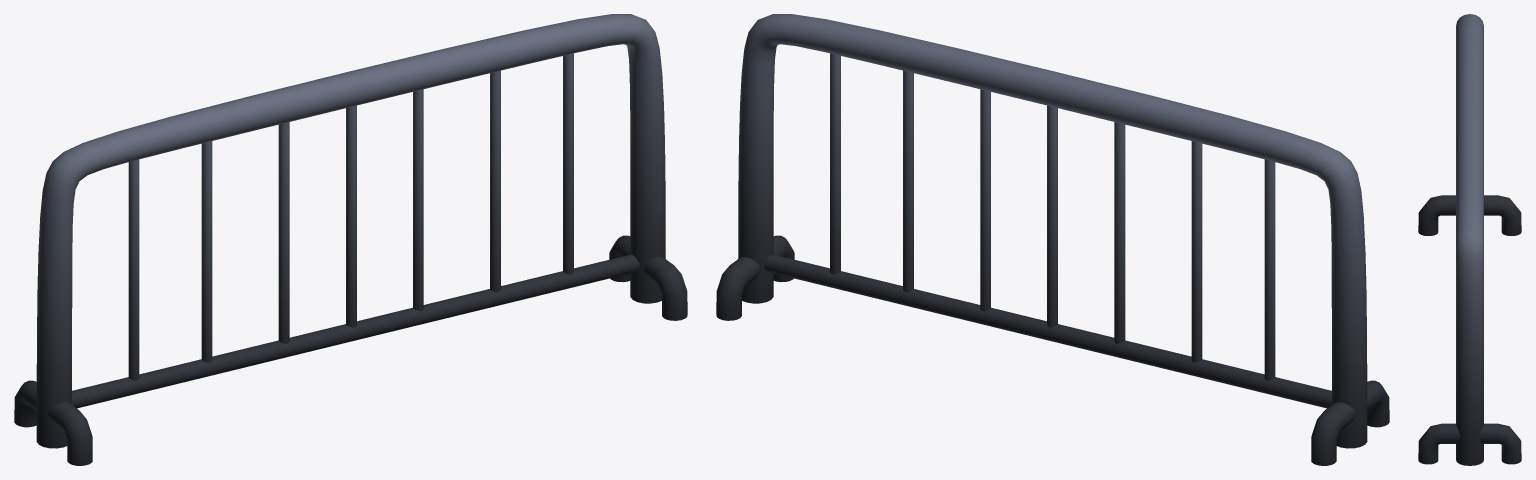
File: IronFence.fbx
3 renders of one model, left to right at view 1: azimuth 30°, elevation 25°; view 2: azimuth 150°, elevation 25°; view 3: azimuth 270°, elevation 25°, orthographic. The views are drawn at different scales.
Parts seen in each view (by area): view 1: Fence_Model; view 2: Fence_Model; view 3: Fence_Model.
Part boxes in pixels (x1,y1,x2,y2): Fence_Model: [14, 14, 687, 465]; Fence_Model: [716, 14, 1389, 465]; Fence_Model: [1418, 14, 1521, 465].
Bounding box in the file's own units: 2.03 × 0.9167 × 0.3693.
